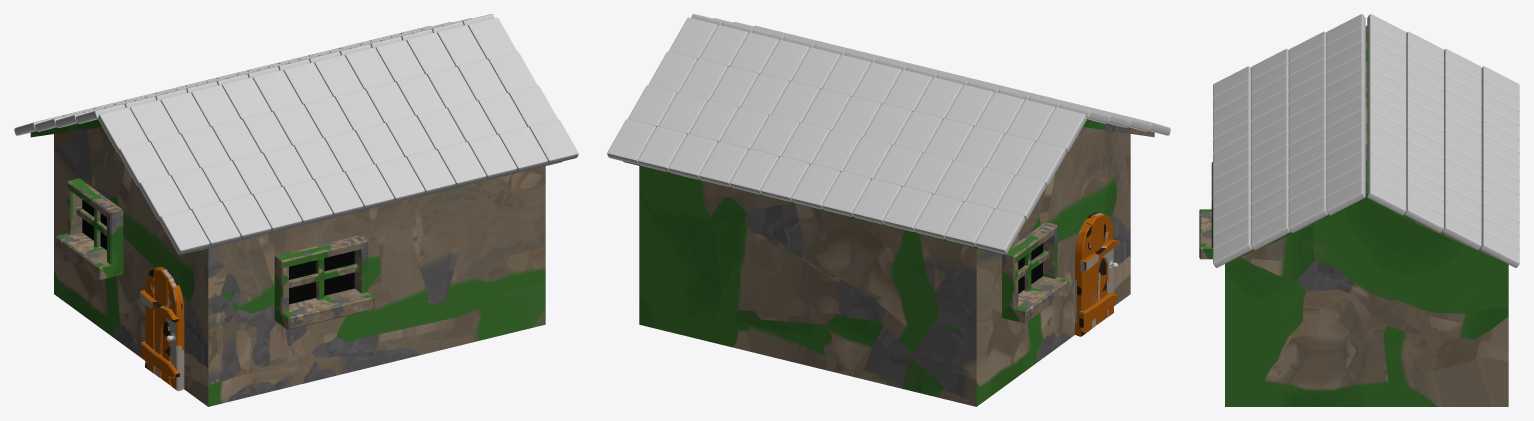
File: Beaver_House.fbx
3 views of the same model, side by side, from view 1: azimuth 30°, elevation 25°; view 2: azimuth 150°, elevation 25°; view 3: azimuth 270°, elevation 25° (orthographic). The views are drawn at different scales.
Visible parts, largest first — view 1: polySurface5, Roof_Tile_1, Roof_Tile_2, Roof_Tile_4, Roof_Tile_3, polySurface28, polySurface33, Roof_Tile_008, Box002, polySurface139, polySurface134, polySurface89 (+5 smaller); view 2: polySurface5, Roof_Tile_5, Roof_Tile_006, Roof_Tile_008, Roof_Tile_007, polySurface33, Roof_Tile_4, polySurface137, polySurface89, Roof_Tile_1, polySurface134, Roof_Tile_2 (+3 smaller); view 3: polySurface5, Roof_Tile_008, Roof_Tile_4, Roof_Tile_5, Roof_Tile_3, Roof_Tile_1, Roof_Tile_007, Roof_Tile_2, Roof_Tile_006, polySurface89, polySurface28.
Part boxes in pixels (bbox=[...]): polySurface5: bbox=[54, 127, 545, 406]; Roof_Tile_1: bbox=[159, 119, 578, 254]; Roof_Tile_2: bbox=[139, 85, 557, 220]; Roof_Tile_4: bbox=[98, 17, 516, 152]; Roof_Tile_3: bbox=[118, 51, 537, 186]; polySurface28: bbox=[274, 235, 374, 329]; polySurface33: bbox=[56, 178, 123, 279]; Roof_Tile_008: bbox=[76, 14, 494, 123]; Box002: bbox=[289, 251, 354, 304]; polySurface139: bbox=[166, 278, 182, 390]; polySurface134: bbox=[154, 267, 172, 378]; polySurface89: bbox=[30, 119, 562, 252]; polySurface5: bbox=[639, 127, 1130, 406]; Roof_Tile_5: bbox=[607, 119, 1025, 254]; Roof_Tile_006: bbox=[628, 85, 1046, 220]; Roof_Tile_008: bbox=[668, 17, 1086, 152]; Roof_Tile_007: bbox=[648, 51, 1066, 186]; polySurface33: bbox=[1002, 222, 1069, 323]; Roof_Tile_4: bbox=[691, 14, 1109, 123]; polySurface137: bbox=[1076, 223, 1090, 336]; polySurface89: bbox=[623, 119, 1154, 252]; Roof_Tile_1: bbox=[754, 25, 1170, 135]; polySurface134: bbox=[1086, 213, 1104, 329]; Roof_Tile_2: bbox=[733, 22, 1149, 131]; polySurface5: bbox=[1225, 34, 1508, 406]; Roof_Tile_008: bbox=[1367, 14, 1406, 215]; Roof_Tile_4: bbox=[1326, 14, 1365, 215]; Roof_Tile_5: bbox=[1480, 66, 1519, 267]; Roof_Tile_3: bbox=[1288, 31, 1327, 233]; Roof_Tile_1: bbox=[1213, 66, 1252, 267]; Roof_Tile_007: bbox=[1404, 31, 1443, 232]; Roof_Tile_2: bbox=[1251, 49, 1290, 250]; Roof_Tile_006: bbox=[1442, 49, 1481, 250]; polySurface89: bbox=[1230, 25, 1502, 261]; polySurface28: bbox=[1199, 162, 1213, 259].
Bounding box in the file's own units: 45.6 × 26.86 × 34.43.
